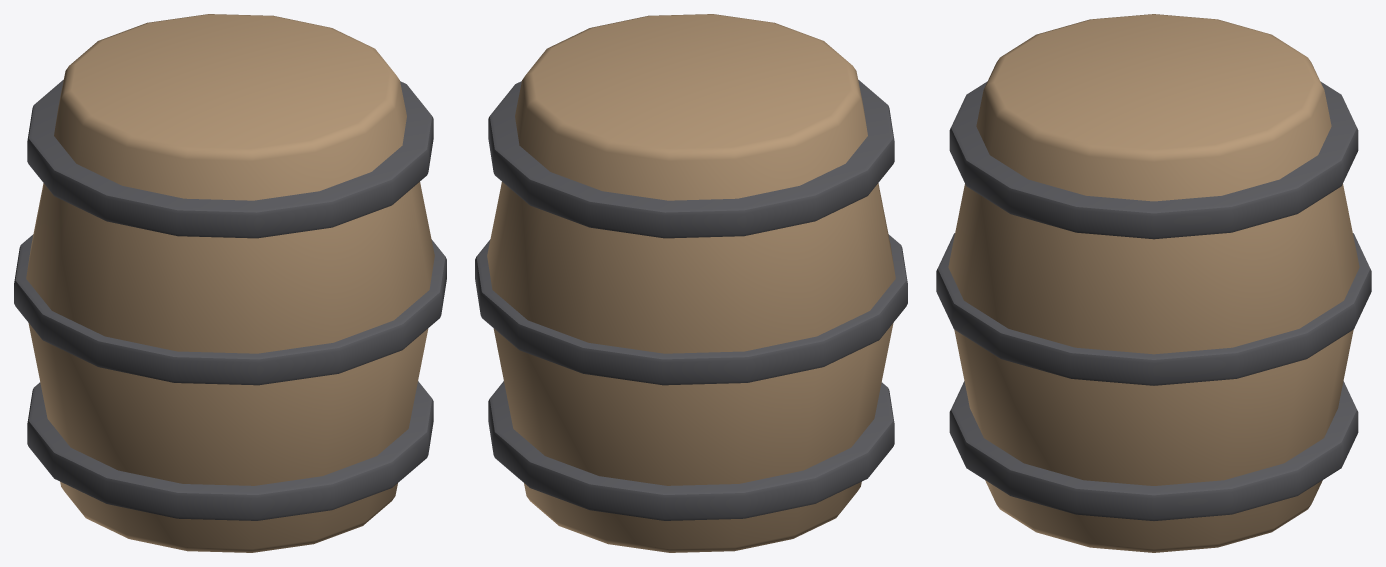
The model's file is barrel.glb.
The picture shows the model from 3 angles, left to right: view 1: azimuth 30°, elevation 25°; view 2: azimuth 150°, elevation 25°; view 3: azimuth 270°, elevation 25°; orthographic projection.
Visible parts, largest first — view 1: barrel; view 2: barrel; view 3: barrel.
Boxes of the visible parts, left/top/right/bottom form: barrel: left=14, top=14, right=446, bottom=552; barrel: left=475, top=14, right=907, bottom=552; barrel: left=936, top=14, right=1371, bottom=552.
Size of what is drawn, in the model's own units: 0.98 by 1 by 0.98.
